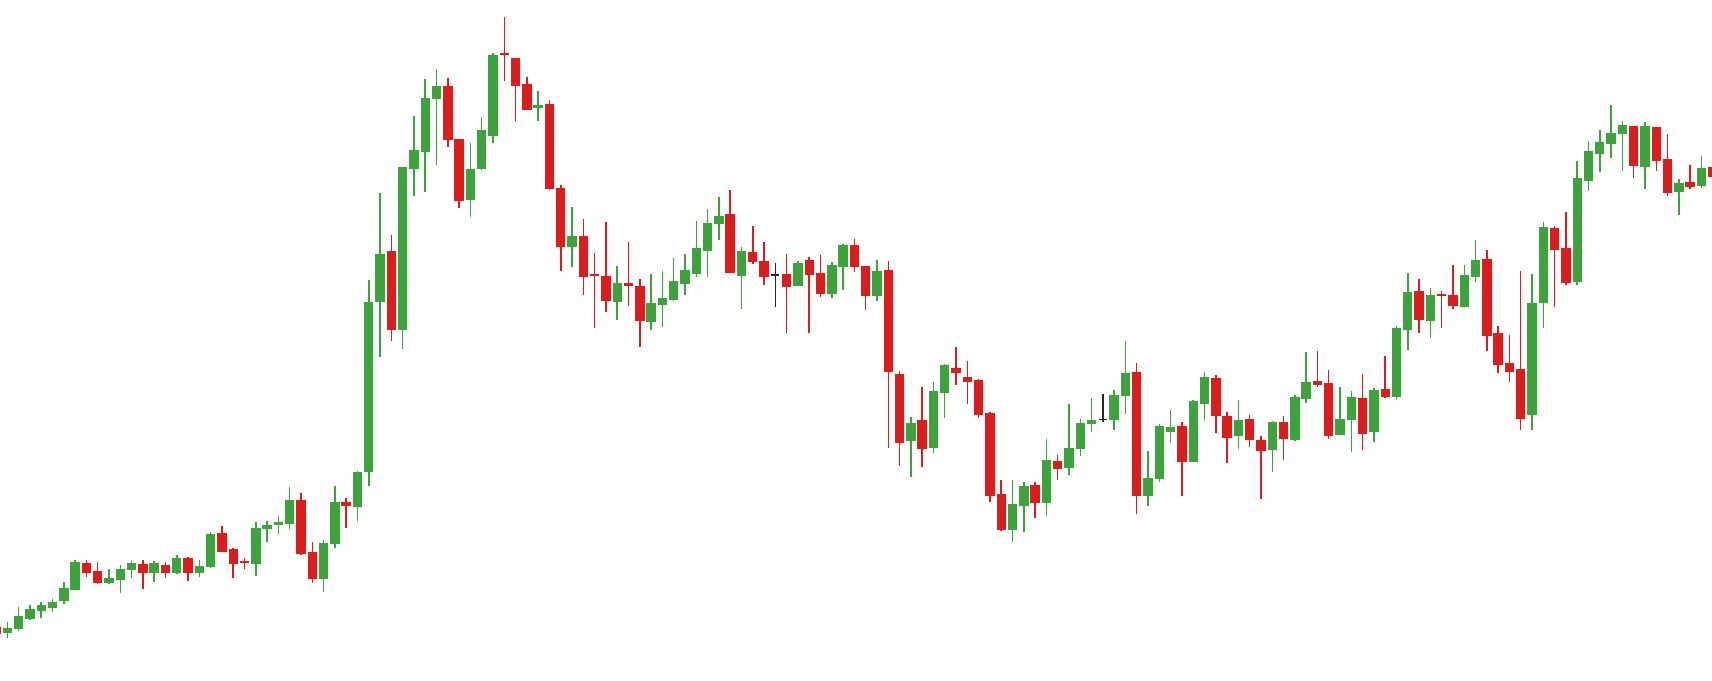buy: (1379, 328, 1539, 431), (1175, 414, 1265, 504), (227, 521, 329, 596)
sell: (431, 14, 524, 138)
